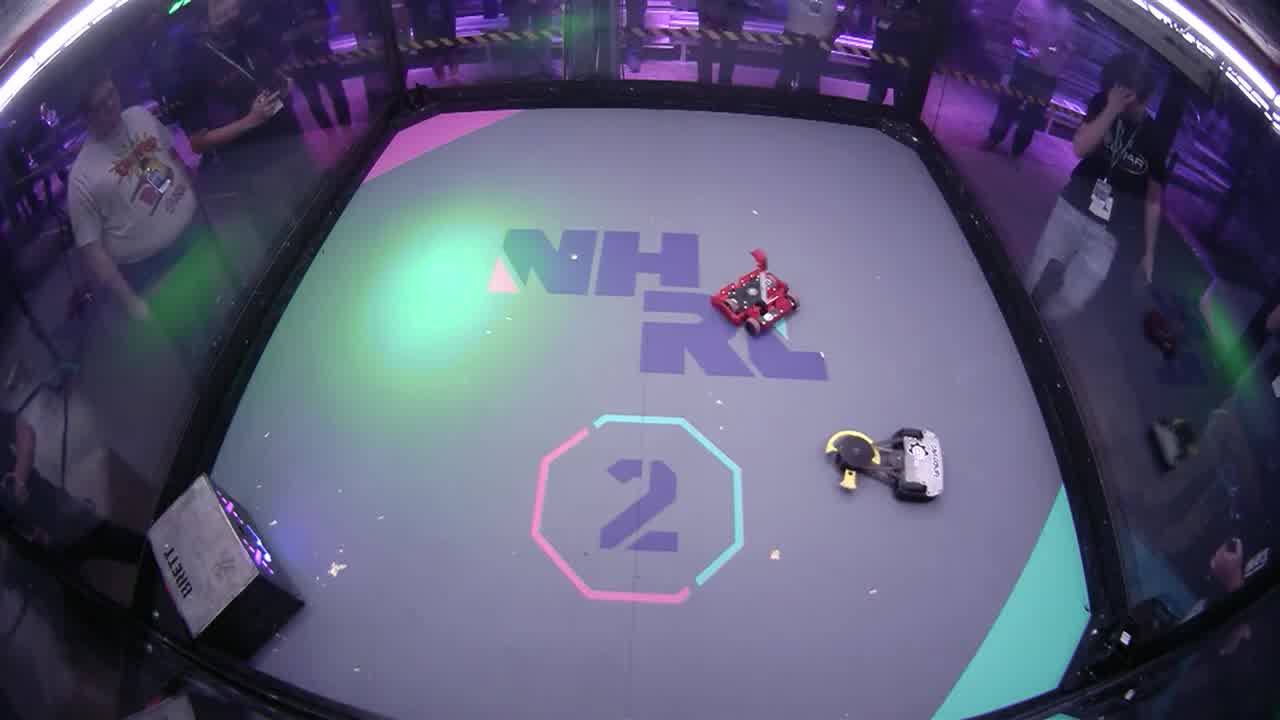combatbot: (826, 425, 943, 505), (709, 268, 802, 339)
housebot: (145, 476, 302, 655)
